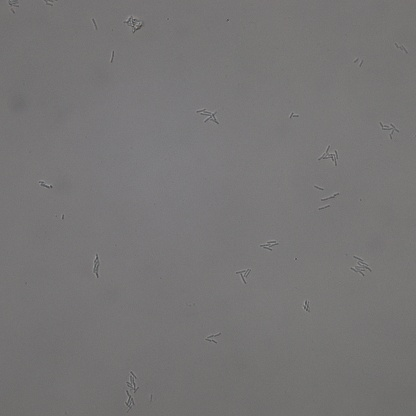R(colony): (350, 255, 372, 277), (318, 145, 340, 166), (196, 106, 220, 124), (380, 122, 400, 139), (126, 371, 141, 392), (236, 267, 252, 285), (124, 393, 137, 413), (259, 238, 279, 251)
